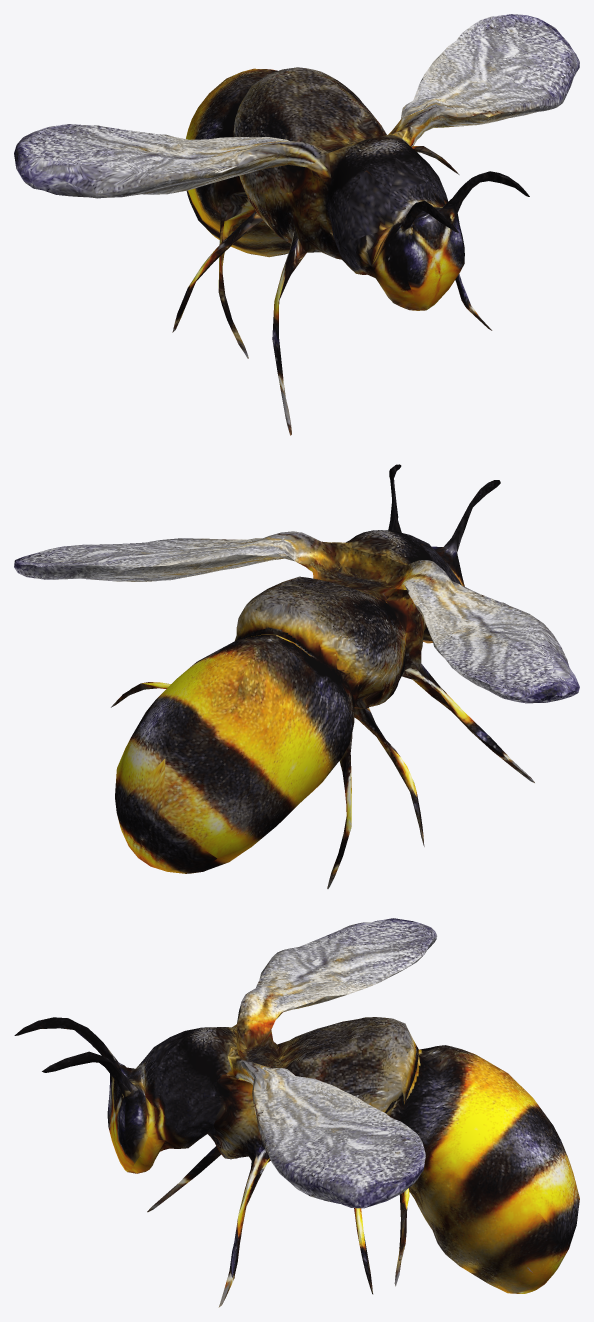
Rendered from bee.glb.
The picture shows the model from 3 angles, top to bottom: view 1: azimuth 30°, elevation 25°; view 2: azimuth 150°, elevation 25°; view 3: azimuth 270°, elevation 25°; orthographic projection.
Parts seen in each view (by area): view 1: Bee_Low_Poly; view 2: Bee_Low_Poly; view 3: Bee_Low_Poly.
Part boxes in pixels (left/top/right/bottom): Bee_Low_Poly: left=14, top=14, right=579, bottom=435; Bee_Low_Poly: left=14, top=464, right=579, bottom=888; Bee_Low_Poly: left=14, top=918, right=579, bottom=1307.
Bounding box in the file's own units: 1804 × 882 × 1613.
Materials: 1 (1 with a texture image).
